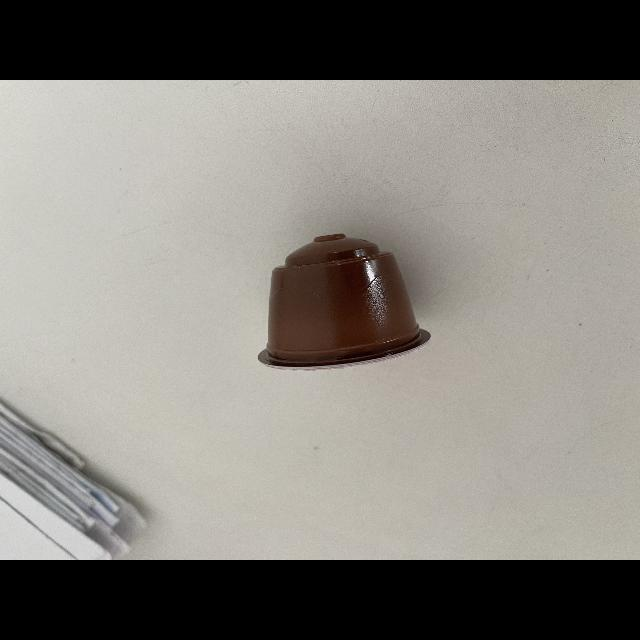intact_capsule: (251, 222, 441, 384)
